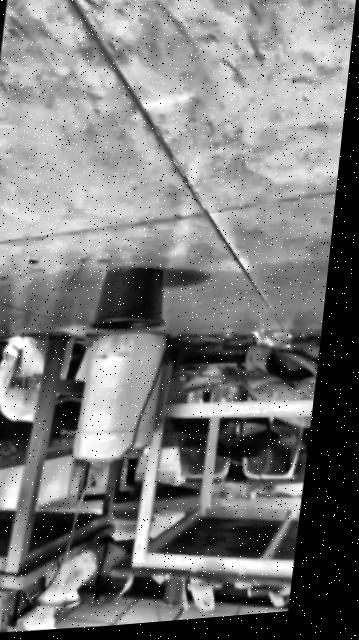pot: (86, 265, 170, 335)
